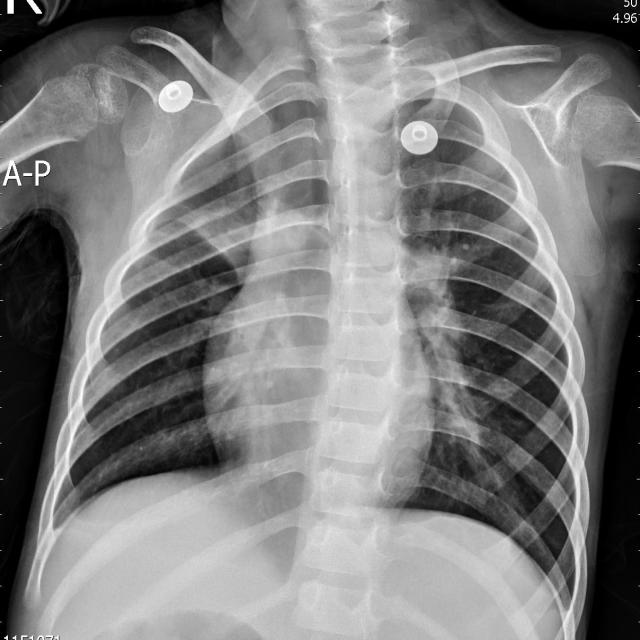low-pneumonia: (410, 240, 490, 484), (181, 140, 257, 279)
